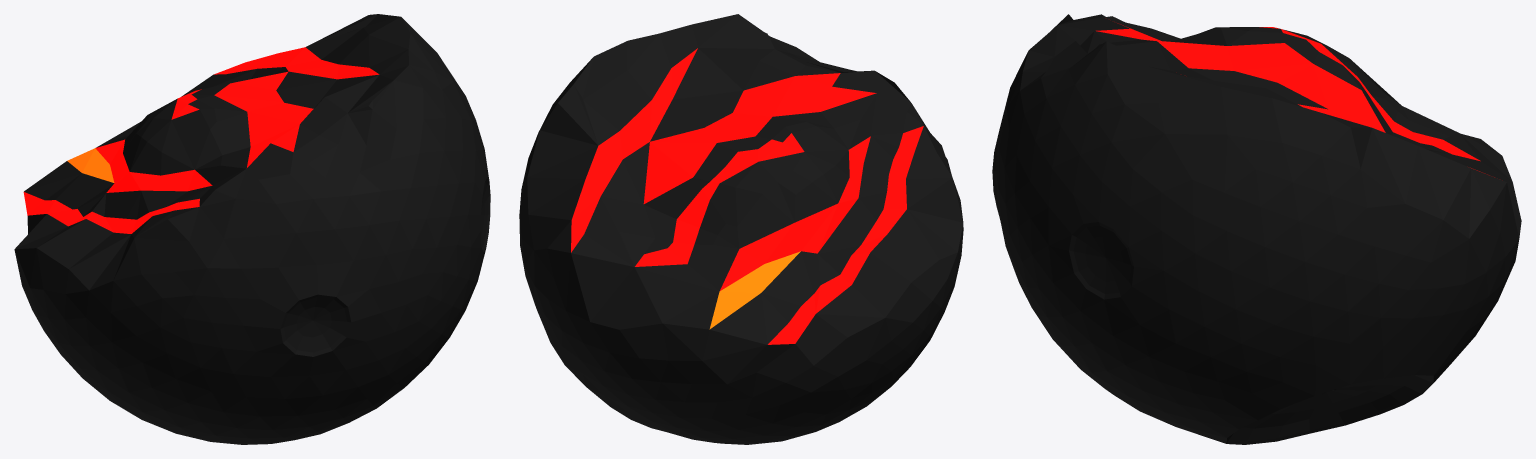
File: Planet14.glb
3 views of the same model, side by side, from view 1: azimuth 30°, elevation 25°; view 2: azimuth 150°, elevation 25°; view 3: azimuth 270°, elevation 25° (orthographic). The views are drawn at different scales.
Parts seen in each view (by area): view 1: Planet4-main; view 2: Planet4-main; view 3: Planet4-main.
Part boxes in pixels (x1,y1,x2,y2): Planet4-main: [14, 14, 490, 444]; Planet4-main: [519, 14, 963, 444]; Planet4-main: [992, 14, 1521, 444].
Bounding box in the file's own units: 9.93 × 8.57 × 9.9.
